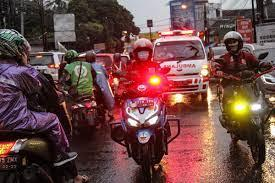ambulance: (149, 29, 211, 103)
motorcycle: (0, 28, 78, 183), (107, 37, 181, 183), (208, 31, 275, 166), (59, 49, 100, 133)
